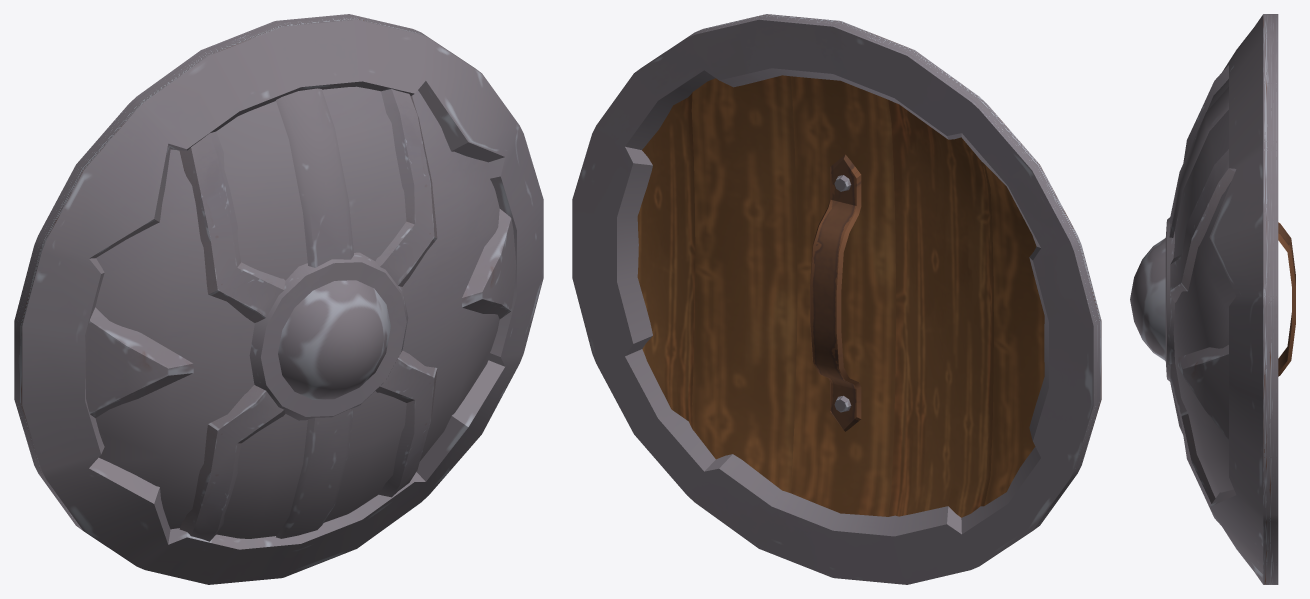
Rendered from Shield_Metal.fbx.
3 views of the same model, side by side, from view 1: azimuth 30°, elevation 25°; view 2: azimuth 150°, elevation 25°; view 3: azimuth 270°, elevation 25° (orthographic). The views are drawn at different scales.
Visible parts, largest first — view 1: Shield_Metal; view 2: Shield_Metal; view 3: Shield_Metal.
Part boxes in pixels (box(x1,y1,x2,y2)): Shield_Metal: box(14, 14, 543, 584); Shield_Metal: box(572, 14, 1101, 584); Shield_Metal: box(1130, 14, 1295, 584).
Bounding box in the file's own units: 61.46 × 62.09 × 17.88.
